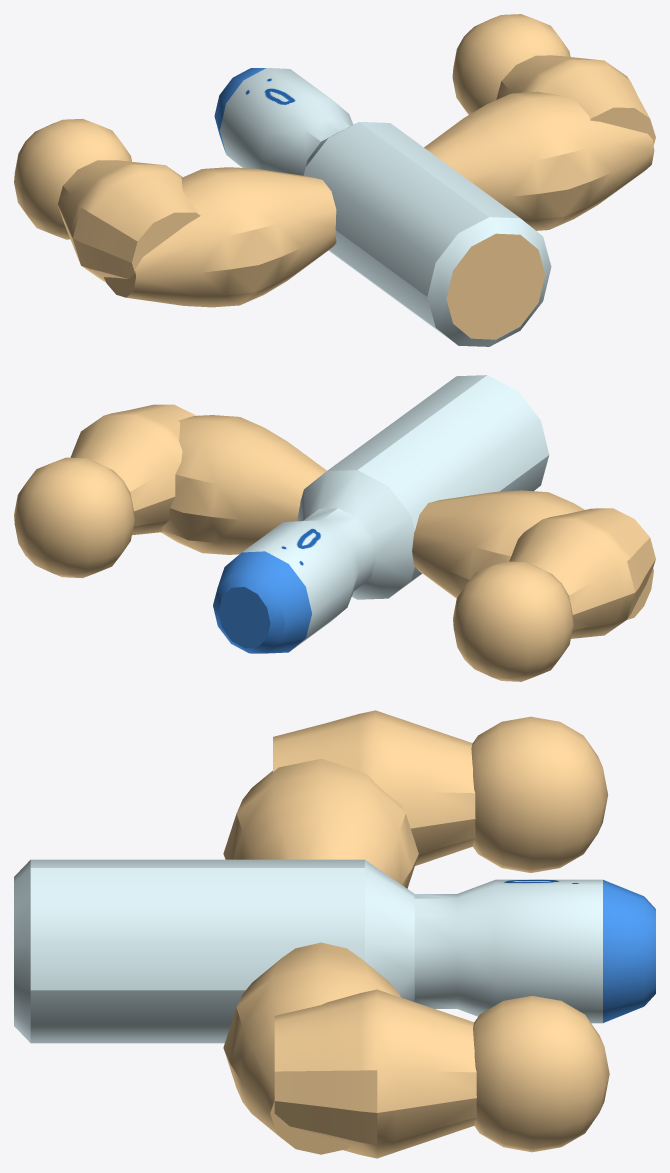
File: Machine.obj
The picture shows the model from 3 angles, top to bottom: view 1: azimuth 30°, elevation 25°; view 2: azimuth 150°, elevation 25°; view 3: azimuth 270°, elevation 25°; orthographic projection. The views are drawn at different scales.
Visible parts, largest first — view 1: Body; view 2: Body; view 3: Body.
Boxes of the visible parts, left/top/right/bottom form: Body: left=14, top=14, right=655, bottom=346; Body: left=14, top=375, right=655, bottom=681; Body: left=14, top=710, right=655, bottom=1158.
Bounding box in the file's own units: 1.36 × 0.3177 × 1.05.
Materials: 5 (5 with a texture image).
